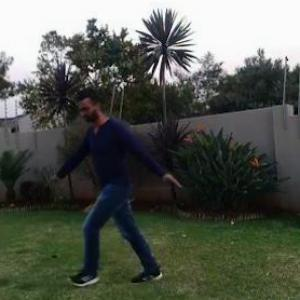land: (48, 81, 182, 291)
